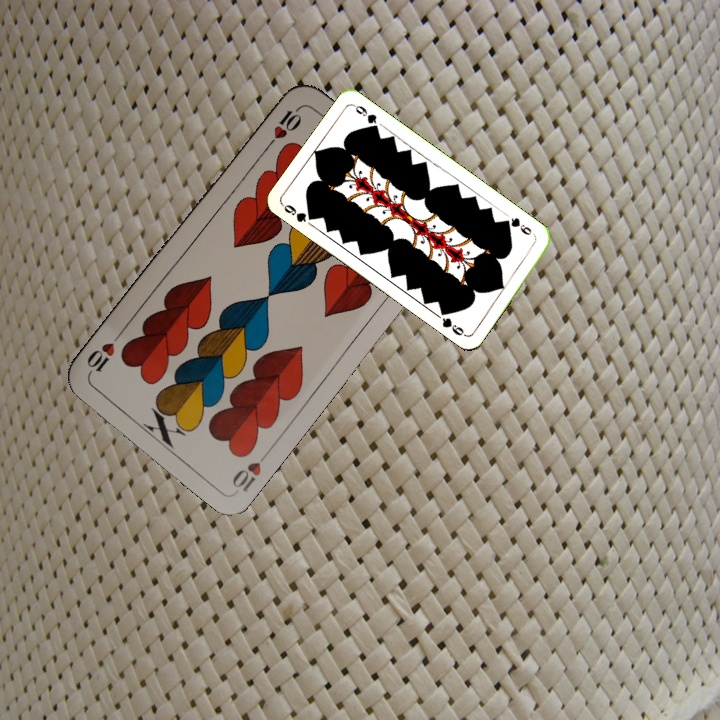G9: (500, 213, 538, 240), (278, 200, 318, 225)
H10: (228, 445, 273, 495), (263, 100, 306, 150)
